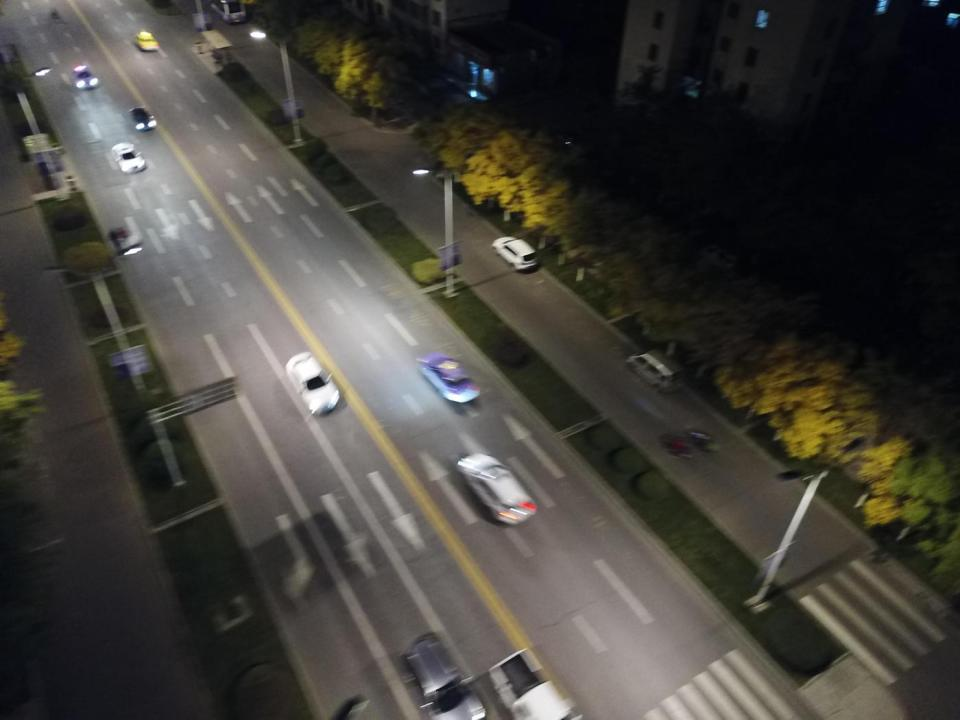car: (454, 452, 536, 524), (284, 346, 344, 415), (416, 348, 481, 408), (694, 242, 738, 276), (112, 141, 144, 174), (209, 0, 247, 23), (73, 63, 98, 93), (131, 104, 156, 133), (137, 30, 159, 55)
truck: (486, 648, 581, 720)
van: (402, 633, 484, 720), (628, 346, 680, 392), (492, 233, 539, 274)
